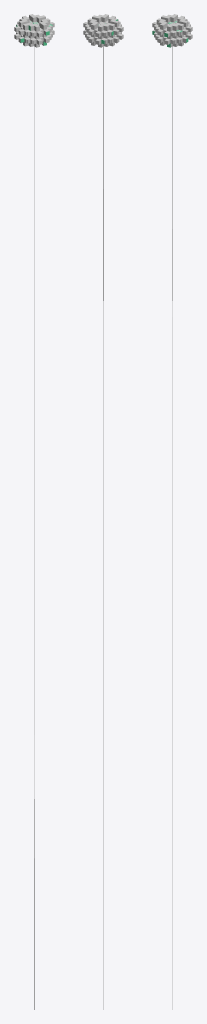
File: floaty10.fbx
3 renders of one model, left to right at view 1: azimuth 30°, elevation 25°; view 2: azimuth 150°, elevation 25°; view 3: azimuth 330°, elevation 25°, orthographic.
Parts seen in each view (by area): view 1: Sphere, Cylinder.001; view 2: Sphere, Cylinder.001; view 3: Sphere, Cylinder.001.
Part boxes in pixels (bbox=[...]): Sphere: bbox=[14, 14, 54, 47]; Cylinder.001: bbox=[34, 46, 34, 1009]; Sphere: bbox=[83, 14, 123, 47]; Cylinder.001: bbox=[103, 46, 103, 1009]; Sphere: bbox=[152, 14, 192, 47]; Cylinder.001: bbox=[172, 46, 172, 1009].
Size of the model in its own units: 1558 by 43393 by 1558.
